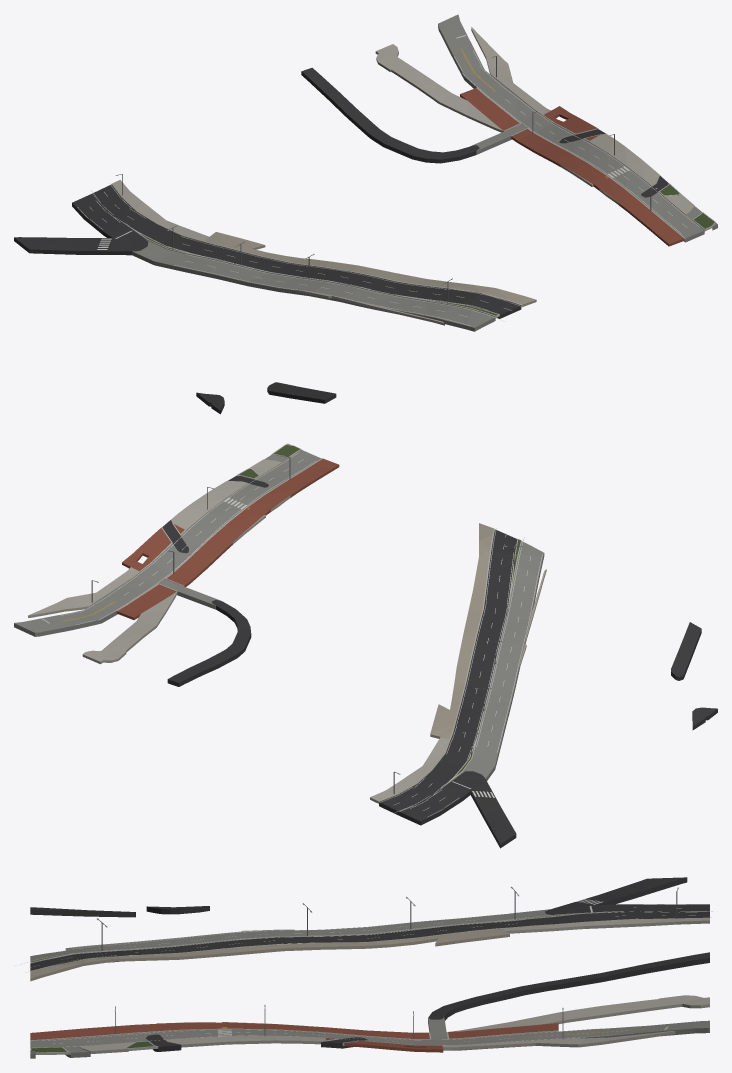
3 views of the same model, one above another, from view 1: azimuth 30°, elevation 25°; view 2: azimuth 150°, elevation 25°; view 3: azimuth 270°, elevation 25° (orthographic). The views are drawn at different scales.
Bounding box in the file's own units: 147 × 43.54 × 151.
